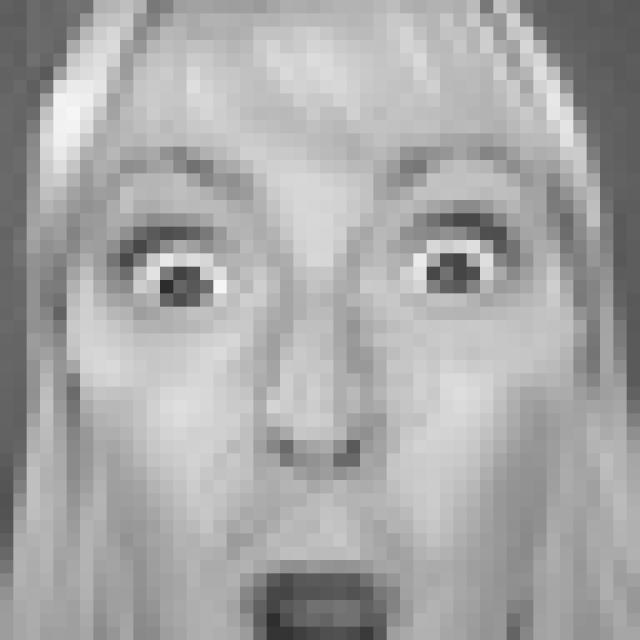surprise: (98, 136, 545, 640)
